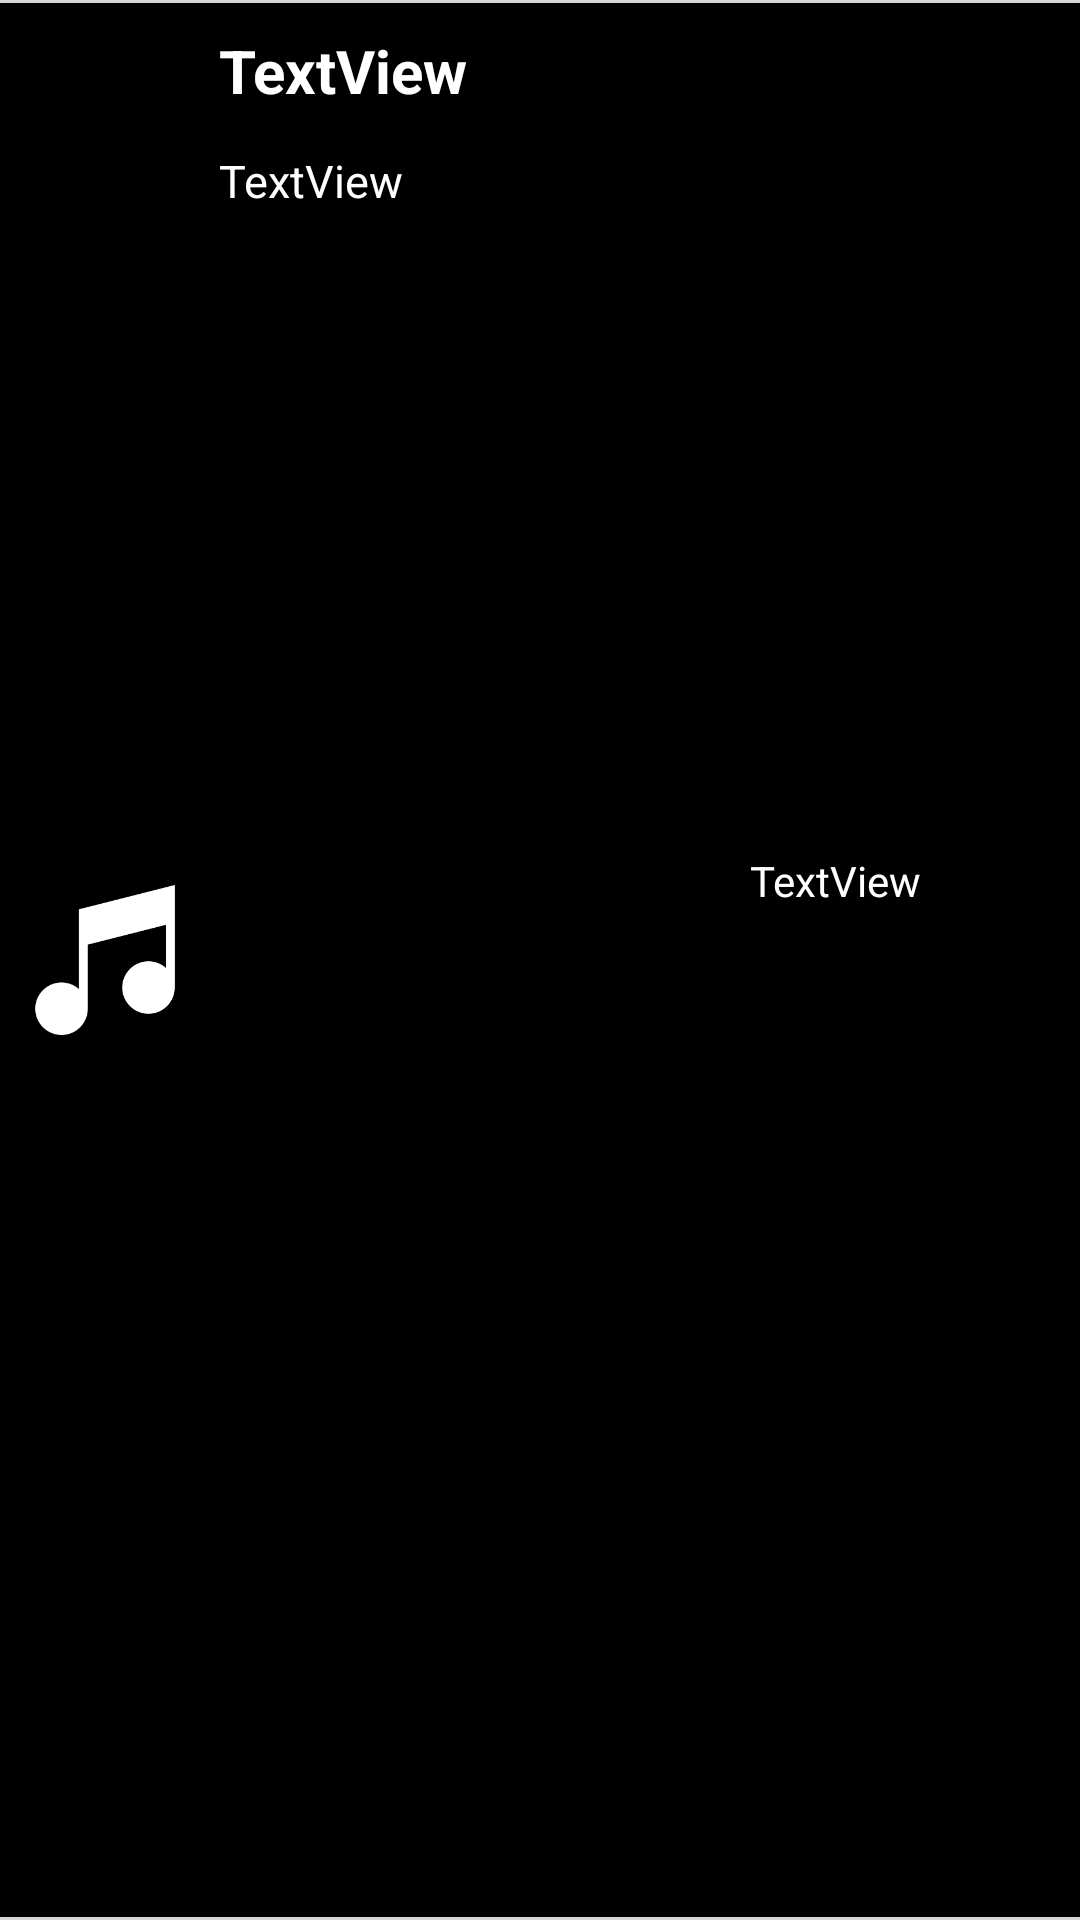

Locate icon controls on the screen. Image size 1080px×1920px, boxes as {"left": x1, "top": y1, "right": x2, "bottom": y2}.
music: {"left": 35, "top": 885, "right": 175, "bottom": 1035}
